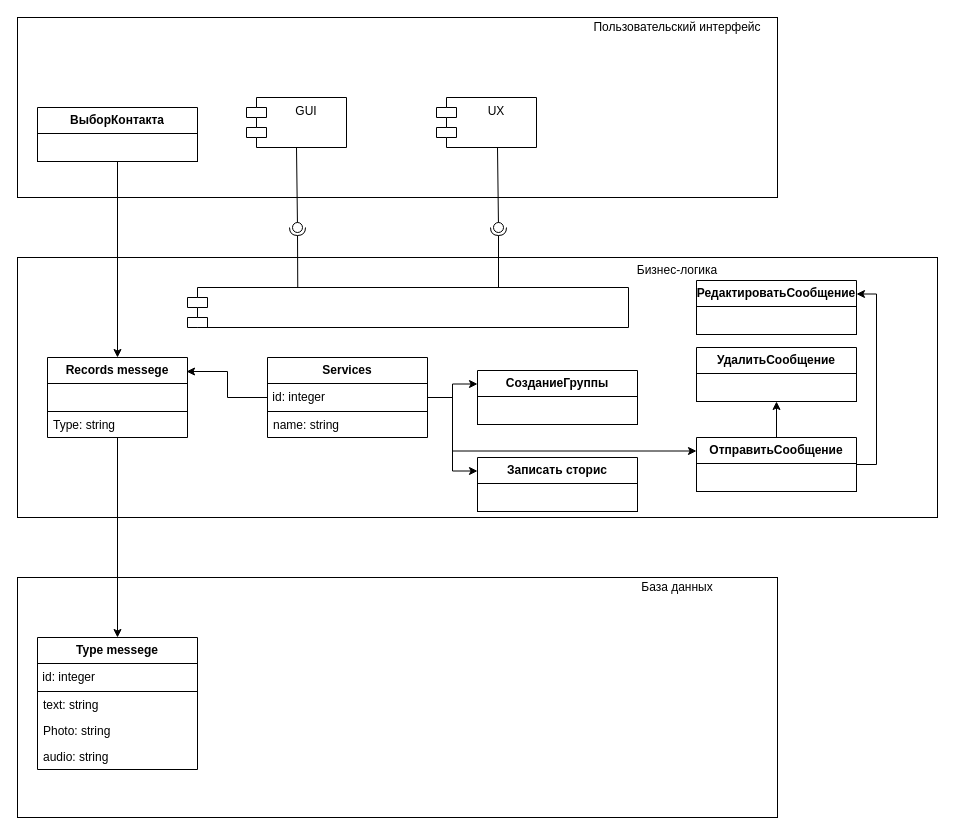
This 955x835 diagram has some shape labels left out. The centre of each missing label's shape, as x and y in pixels:
AppController: point (407, 307)
Time: datetime: point (117, 397)
